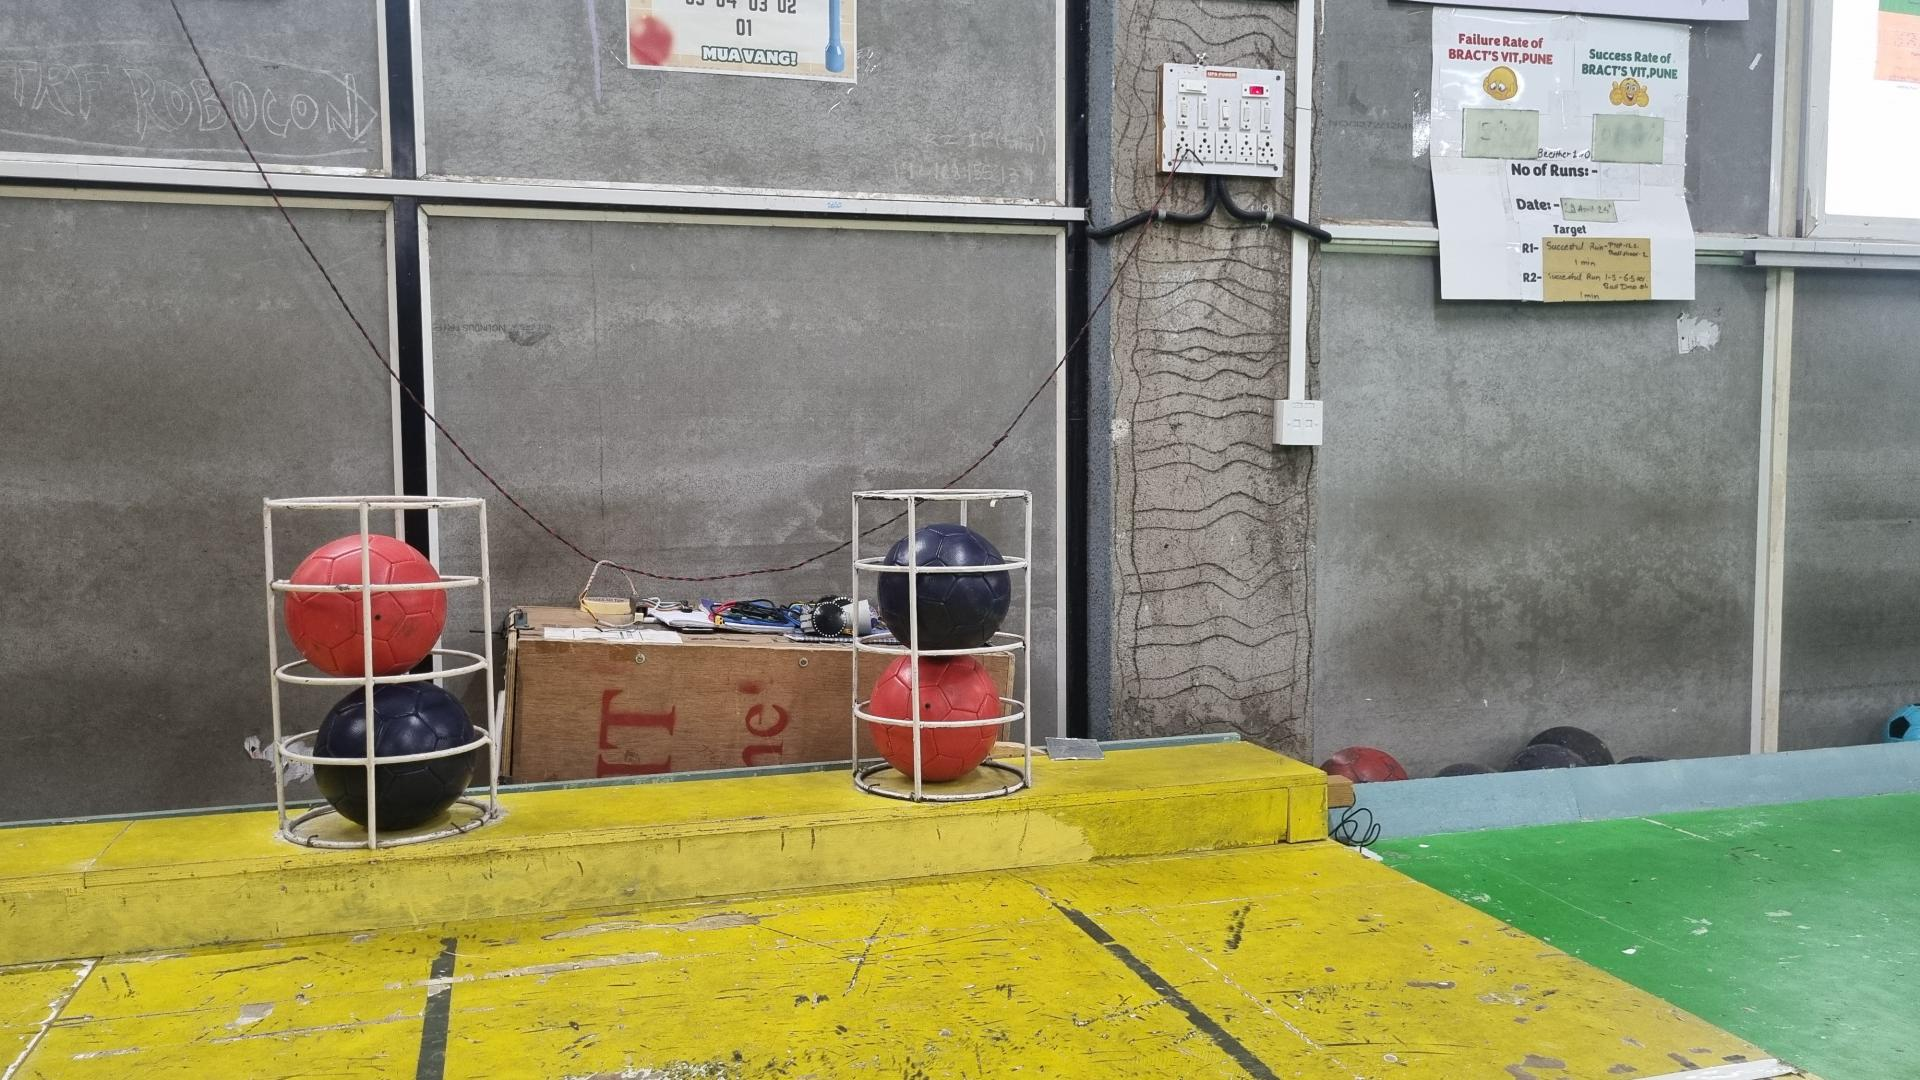dhoka: (311, 682, 476, 839), (877, 525, 1013, 651)
laale: (281, 535, 446, 678), (866, 655, 1005, 783)
